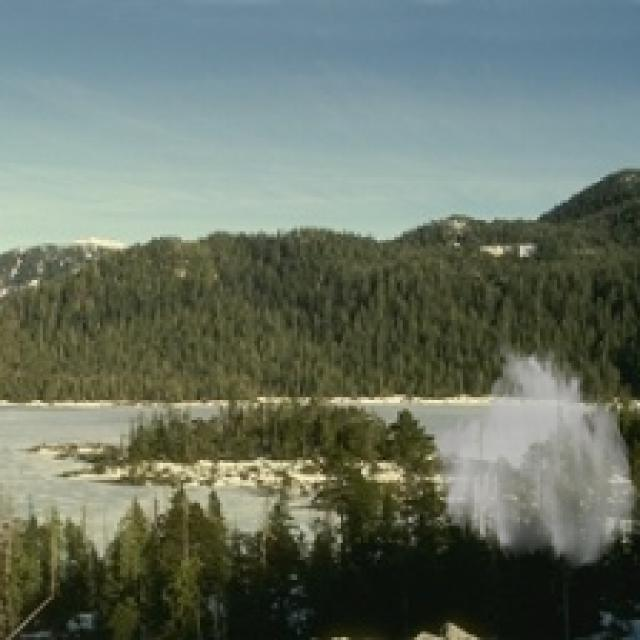smoke: (429, 337, 637, 574)
